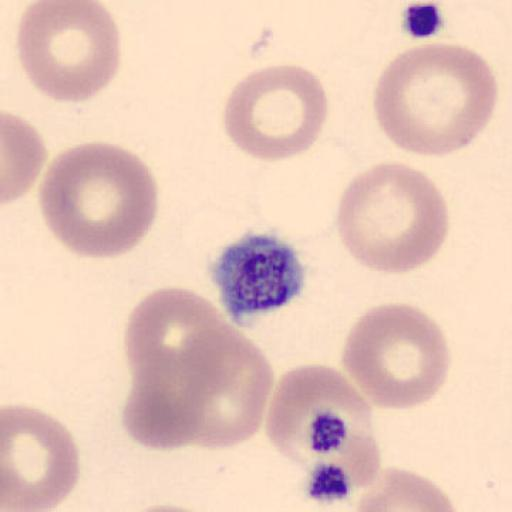Platelet: (208, 228, 310, 324)
RBC: (122, 286, 234, 449), (371, 40, 499, 159), (37, 140, 159, 260), (334, 159, 451, 275), (172, 325, 275, 451), (123, 284, 231, 403), (340, 301, 452, 411), (265, 362, 375, 467), (14, 0, 122, 104), (222, 62, 330, 164), (1, 402, 81, 512), (120, 352, 208, 452), (351, 465, 460, 512), (1, 109, 47, 206), (115, 499, 221, 512), (118, 502, 215, 512)
